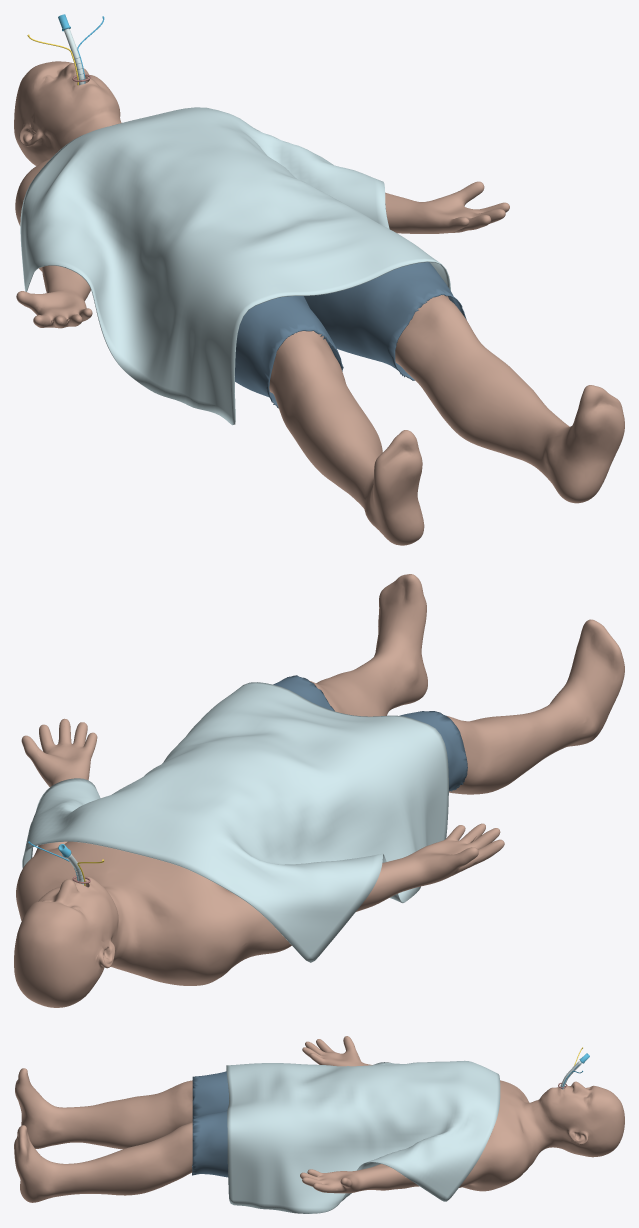
The model's file is patient_001_lod0.glb.
The picture shows the model from 3 angles, top to bottom: view 1: azimuth 30°, elevation 25°; view 2: azimuth 150°, elevation 25°; view 3: azimuth 270°, elevation 25°; orthographic projection. The views are drawn at different scales.
Parts seen in each view (by area): view 1: Patient hospital blanket - settled asset, VH_M_skin, Patient underwear - connected waist and both legs; view 2: Patient hospital blanket - settled asset, VH_M_skin, Patient underwear - connected waist and both legs; view 3: Patient hospital blanket - settled asset, VH_M_skin, Patient underwear - connected waist and both legs.
Boxes of the visible parts, box(x1,y1,x2,y2) form: Patient hospital blanket - settled asset: box(20, 107, 450, 425); VH_M_skin: box(14, 61, 624, 545); Patient underwear - connected waist and both legs: box(235, 262, 466, 408); Patient hospital blanket - settled asset: box(22, 682, 448, 962); VH_M_skin: box(14, 574, 624, 1007); Patient underwear - connected waist and both legs: box(273, 675, 467, 791); Patient hospital blanket - settled asset: box(226, 1060, 500, 1213); VH_M_skin: box(14, 1036, 624, 1202); Patient underwear - connected waist and both legs: box(192, 1071, 228, 1177).
Size of the model in its own units: 1.04 by 0.4049 by 1.82.
